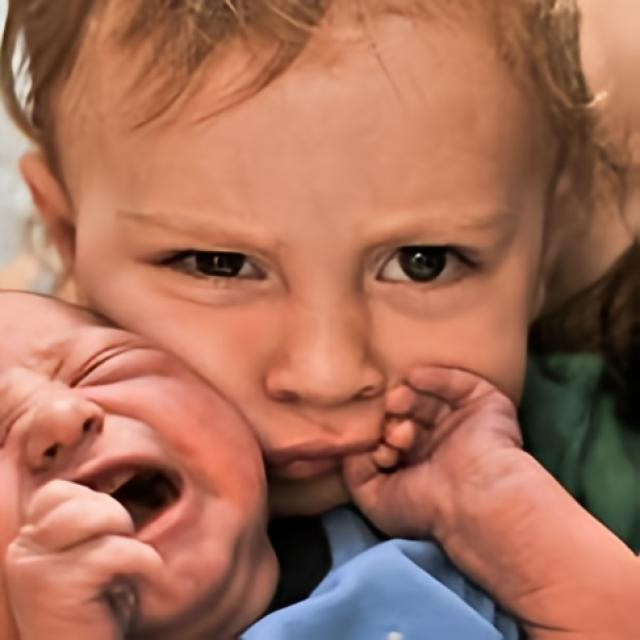anger: (70, 0, 556, 521), (0, 297, 271, 640)
